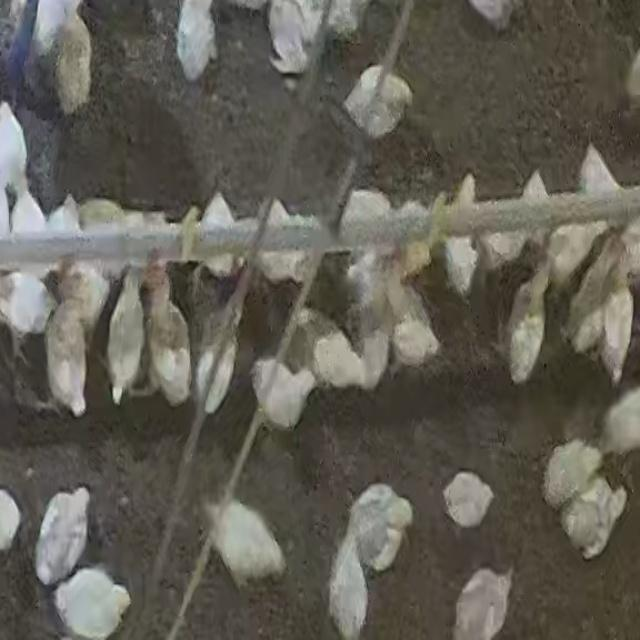chicken: (201, 498, 284, 593), (44, 287, 94, 421), (501, 248, 550, 384), (142, 272, 189, 410), (345, 484, 413, 576), (249, 192, 314, 286), (34, 484, 92, 588), (310, 319, 390, 394), (51, 566, 132, 638), (106, 265, 146, 405), (561, 475, 627, 559), (252, 351, 318, 432), (342, 64, 412, 140), (598, 263, 636, 388), (453, 564, 514, 640), (55, 259, 107, 347), (542, 438, 604, 510), (328, 536, 371, 638), (543, 210, 605, 280), (8, 188, 55, 280), (288, 308, 346, 382), (197, 192, 243, 284), (196, 332, 242, 421), (0, 270, 53, 346), (266, 1, 318, 77), (54, 18, 92, 114), (175, 1, 218, 82), (390, 308, 441, 371), (338, 188, 394, 244), (600, 381, 640, 458), (440, 471, 496, 525), (442, 230, 480, 300), (578, 143, 620, 195), (465, 1, 518, 31)
